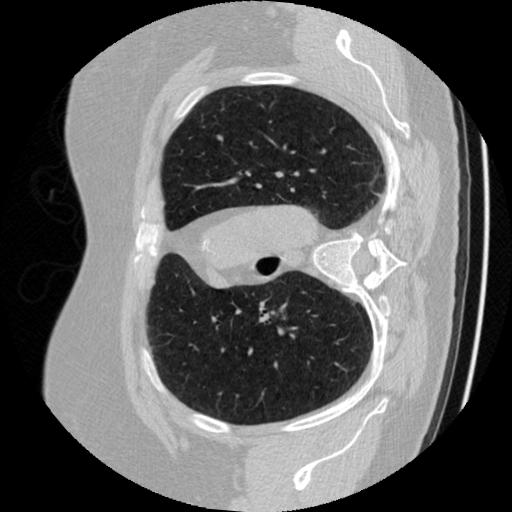nodule: (215, 134, 226, 145)
